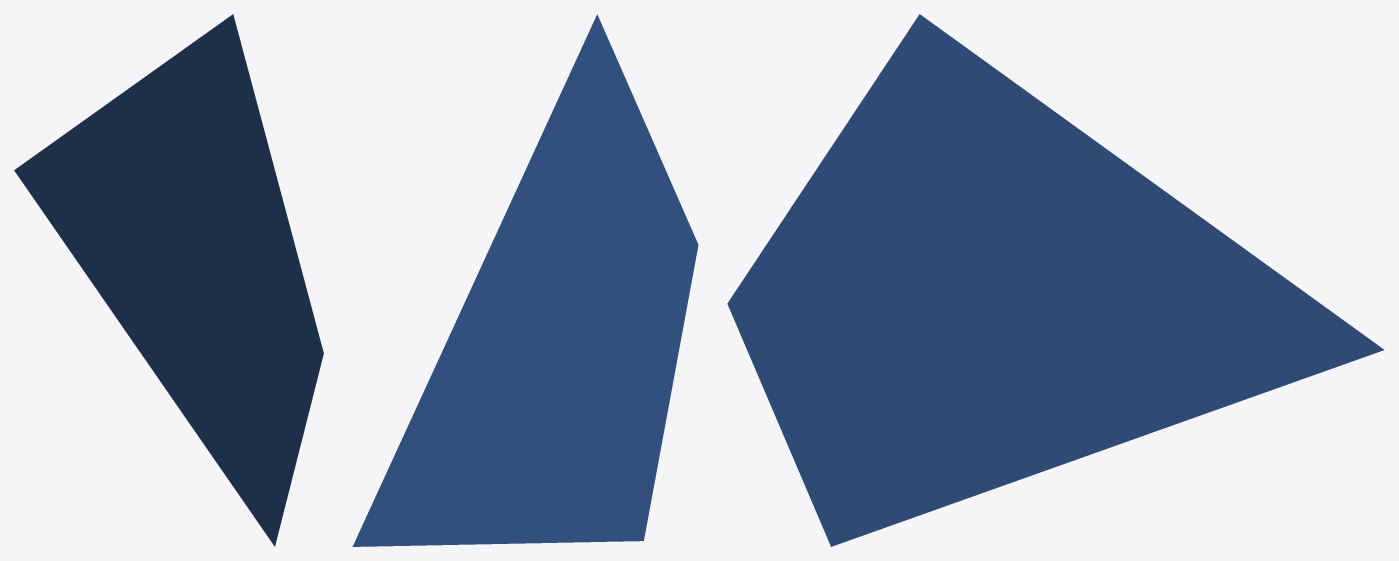
Rendered from blue1.fbx.
The picture shows the model from 3 angles, left to right: view 1: azimuth 30°, elevation 25°; view 2: azimuth 150°, elevation 25°; view 3: azimuth 270°, elevation 25°; orthographic projection. The views are drawn at different scales.
Parts seen in each view (by area): view 1: Object_1; view 2: Object_1; view 3: Object_1.
Part boxes in pixels (<box>): Object_1: <box>14,14,323,546</box>; Object_1: <box>352,14,698,546</box>; Object_1: <box>727,14,1383,546</box>.
Size of the model in its own units: 0 by 1.38 by 1.24.
